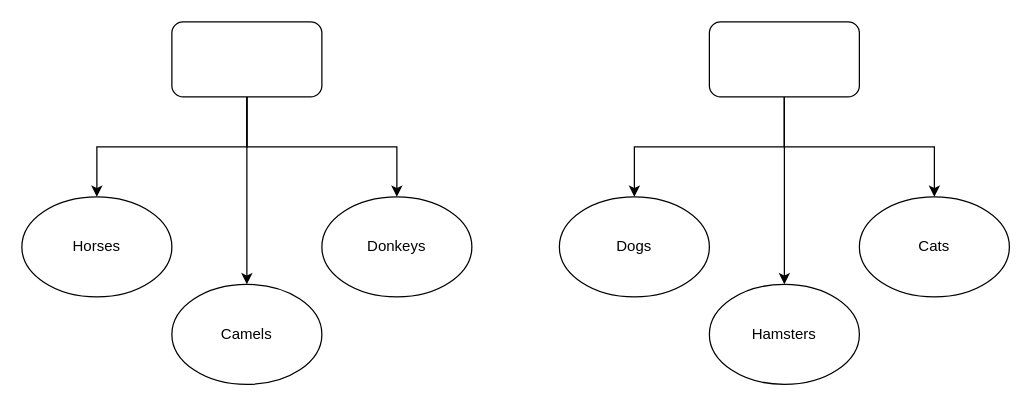
The diagram is 1031 pixels wide and 406 high, and some of its shapes have lost their labels. Each missing label, with the centre of its shape:
"Baggage animals" belongs at (246,59).
"Pets" belongs at (783,59).
